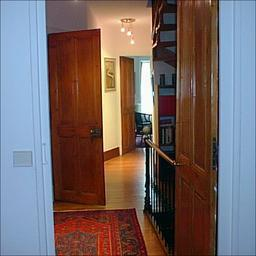Puerta: (176, 6, 215, 254), (51, 32, 104, 204)
